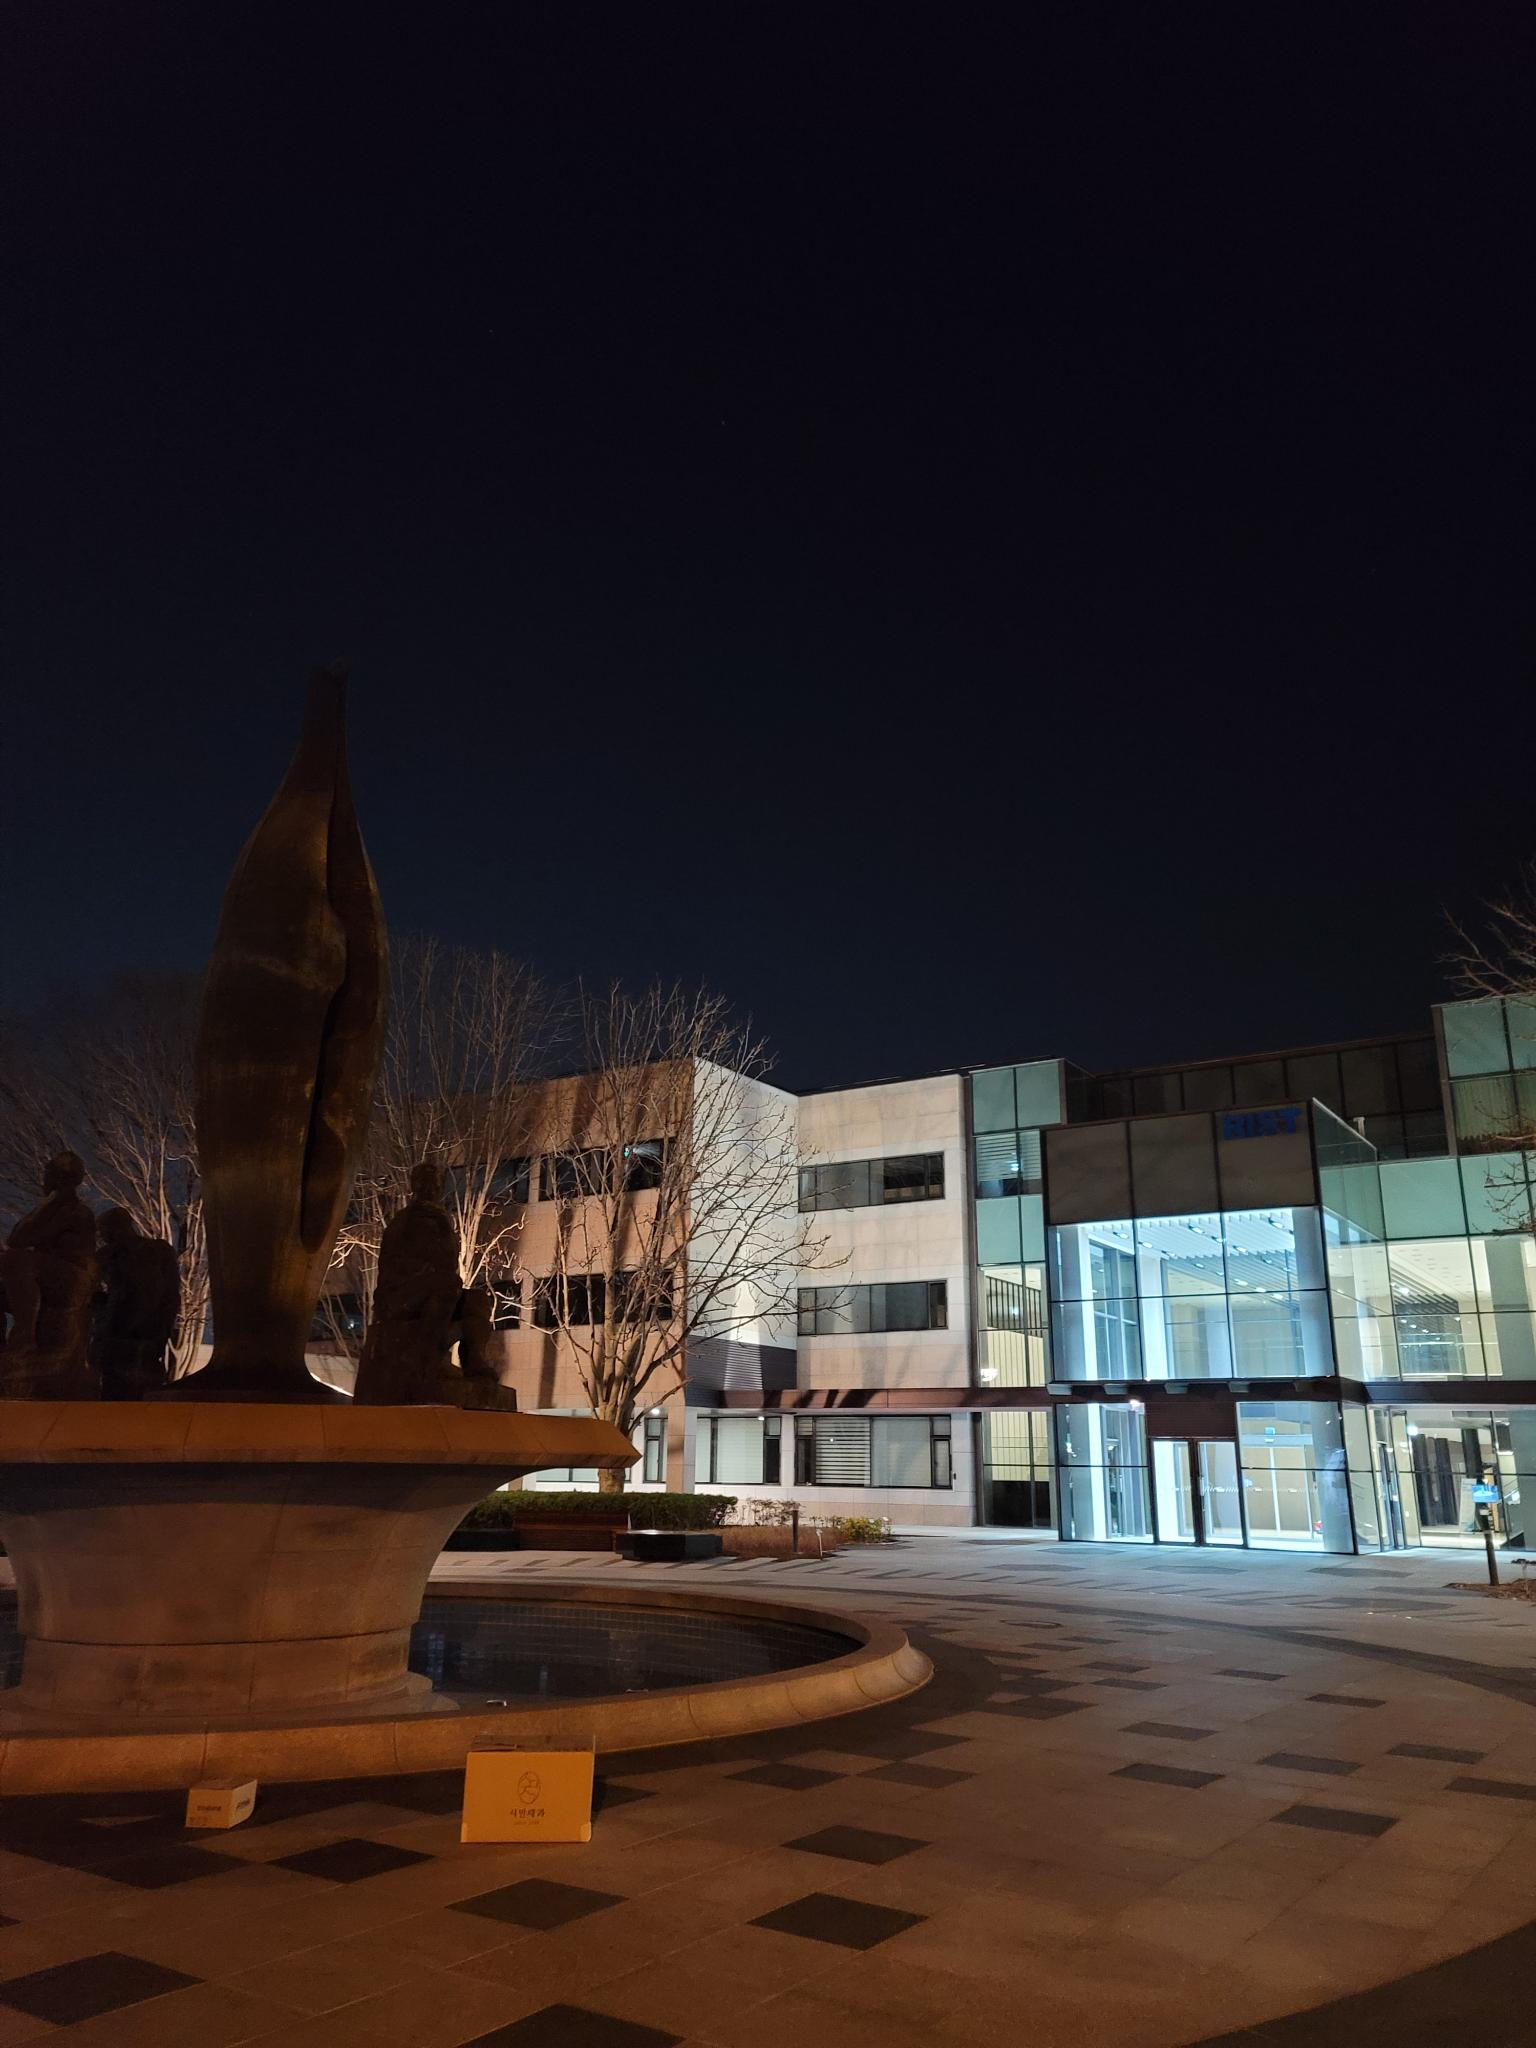Box: (444, 1729, 615, 1858), (174, 1777, 279, 1851)
